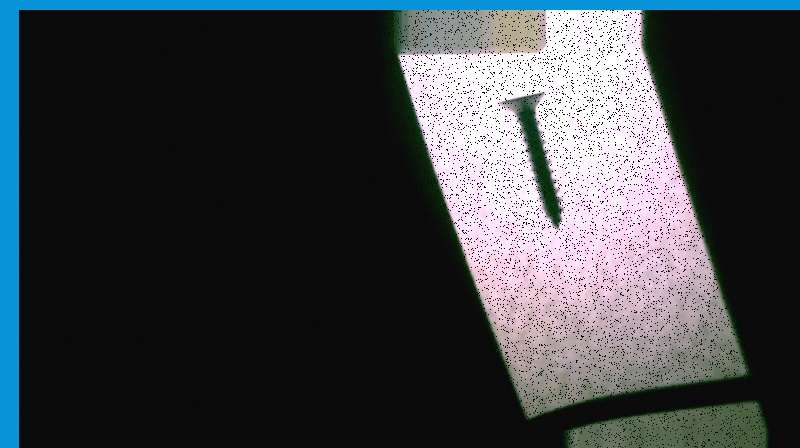S001: (493, 86, 566, 231)
